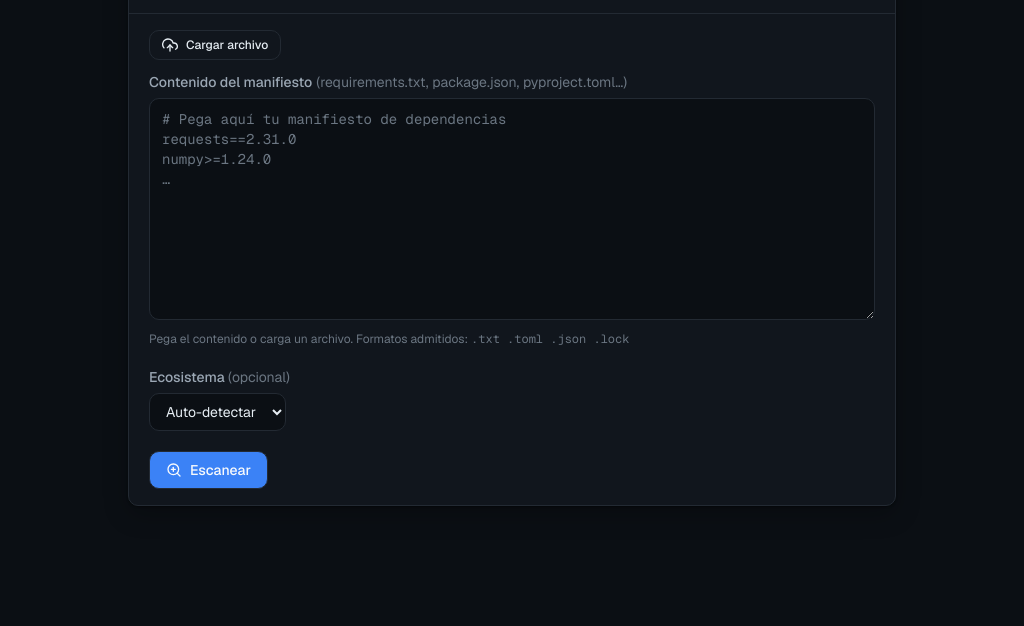
ScanPage — éxito › escaneo exitoso renderiza el reporte con el resumen
Type "requests==2.31.0" into the text box labelled "Contenido del manifiesto".
click(512, 209); type("requests==2.31.0")  # box [149,98,875,320]
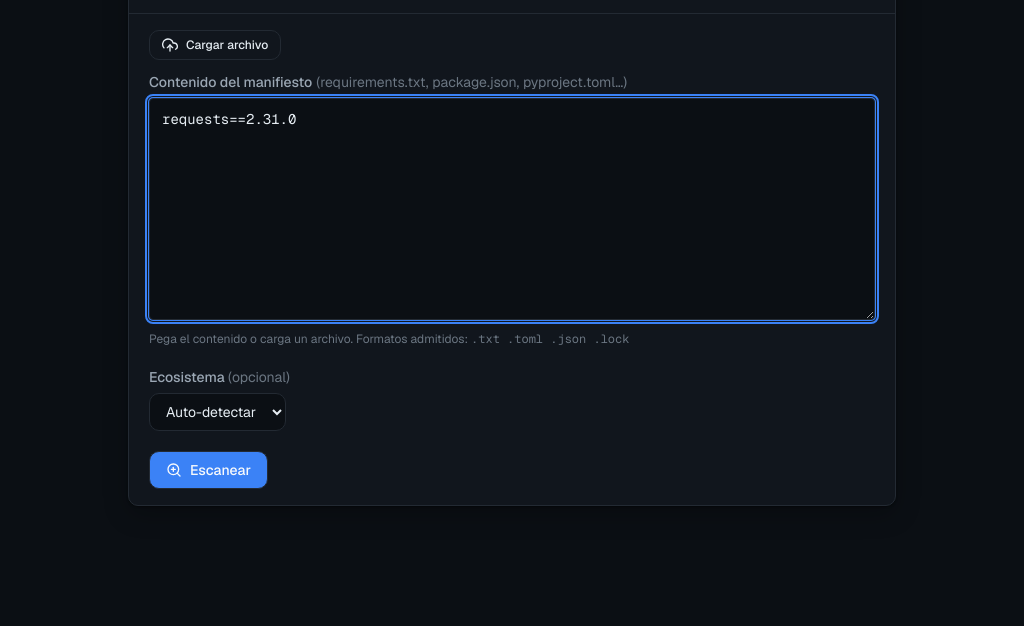
Click the button with aria-label "Iniciar escaneo".
click(208, 470)  # box [149,451,268,489]
(page scrolled)
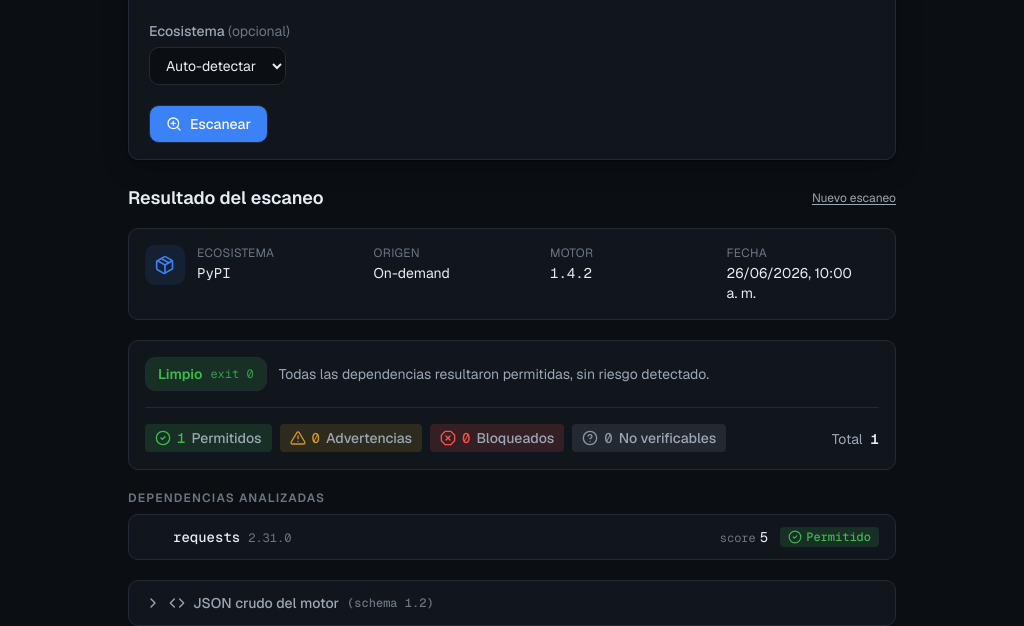
Now the element named "Reporte de escaneo" is shown, box [128,228,896,625]
Now the text "exit 0" is shown, box [210,366,254,382]
